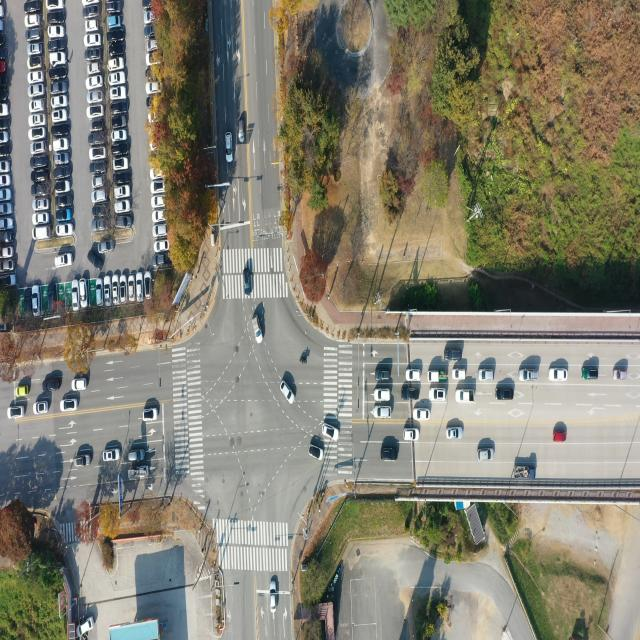car: (250, 314, 264, 344), (77, 616, 94, 640), (33, 228, 51, 242)
small_truck: (126, 464, 150, 482), (514, 466, 536, 480), (428, 368, 448, 383)
